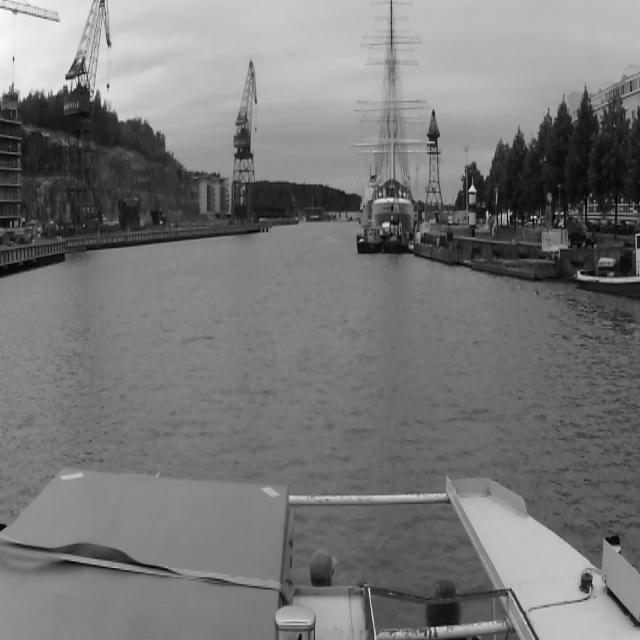ship: (367, 0, 415, 222), (382, 230, 406, 256)
